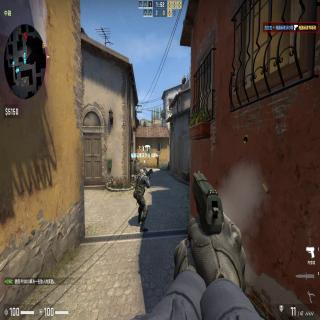CT-Body: (134, 165, 152, 232)
